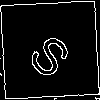S: (25, 25, 81, 82)
